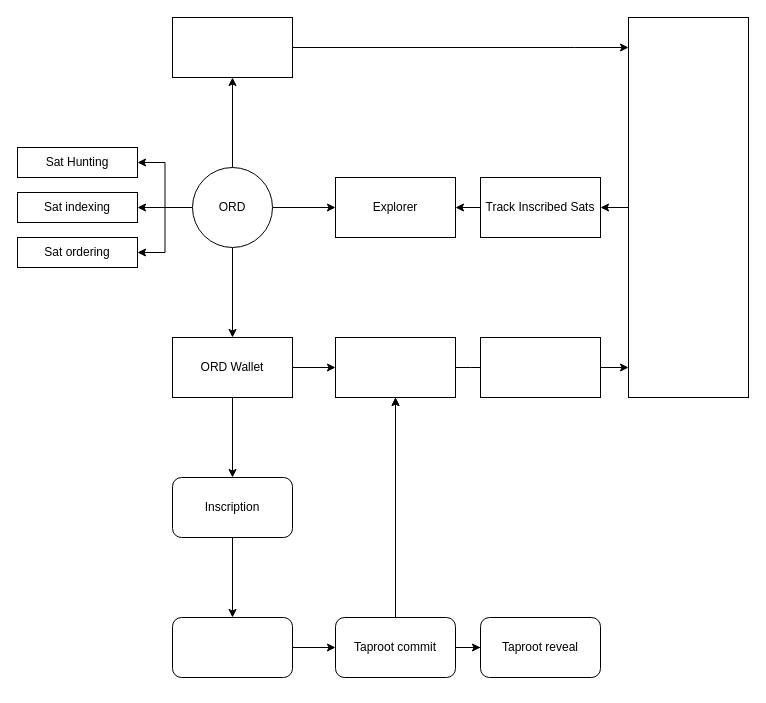
Image size: 766x703. Some labels were removed from this diagram. Here are the shapes that lost their labels. From the top down, the box of each, then its label:
(172, 16, 292, 78): Bitcoin core
(628, 16, 748, 398): Network
(334, 336, 456, 398): transaction
(480, 336, 600, 398): Inscribe SATs
(172, 616, 292, 678): Serialize
